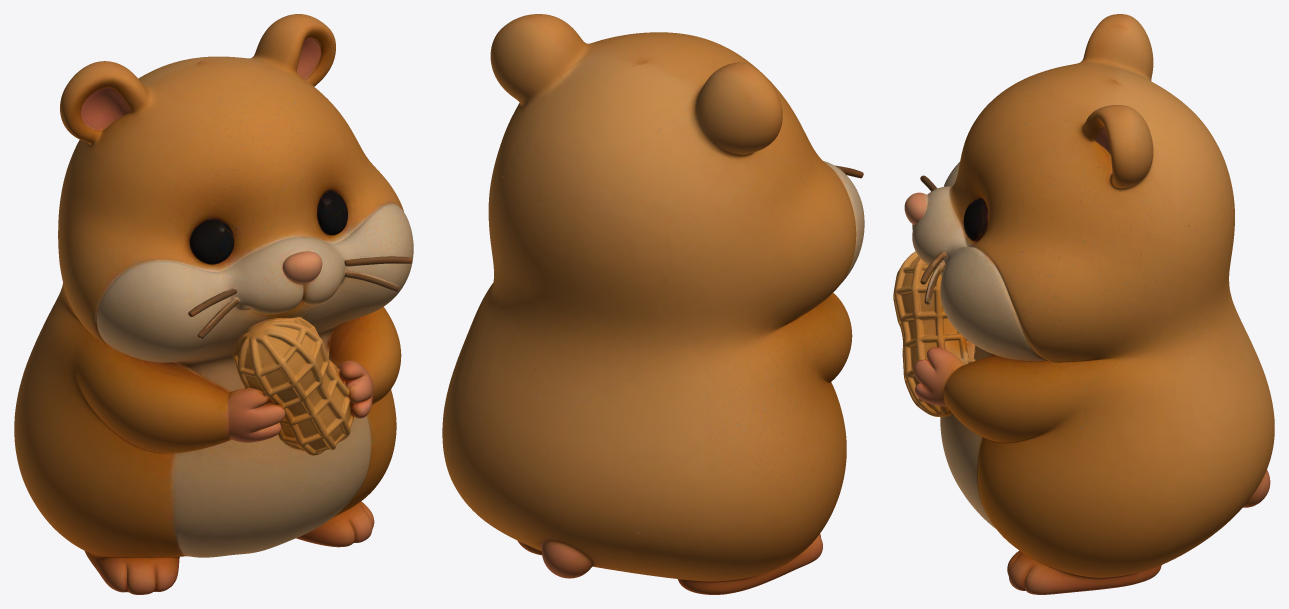
The model's file is tiny_planet_friends_3d-mouse-4188 (1).glb.
3 views of the same model, side by side, from view 1: azimuth 30°, elevation 25°; view 2: azimuth 150°, elevation 25°; view 3: azimuth 270°, elevation 25° (orthographic). The views are drawn at different scales.
Visible parts, largest first — view 1: texture_pbr_v128; view 2: texture_pbr_v128; view 3: texture_pbr_v128.
Boxes of the visible parts, bbox=[...] form: texture_pbr_v128: bbox=[14, 14, 413, 594]; texture_pbr_v128: bbox=[442, 14, 864, 594]; texture_pbr_v128: bbox=[893, 14, 1274, 594].
Bounding box in the file's own units: 0.7505 × 1.04 × 0.7634.
1 material, 1 textured.
